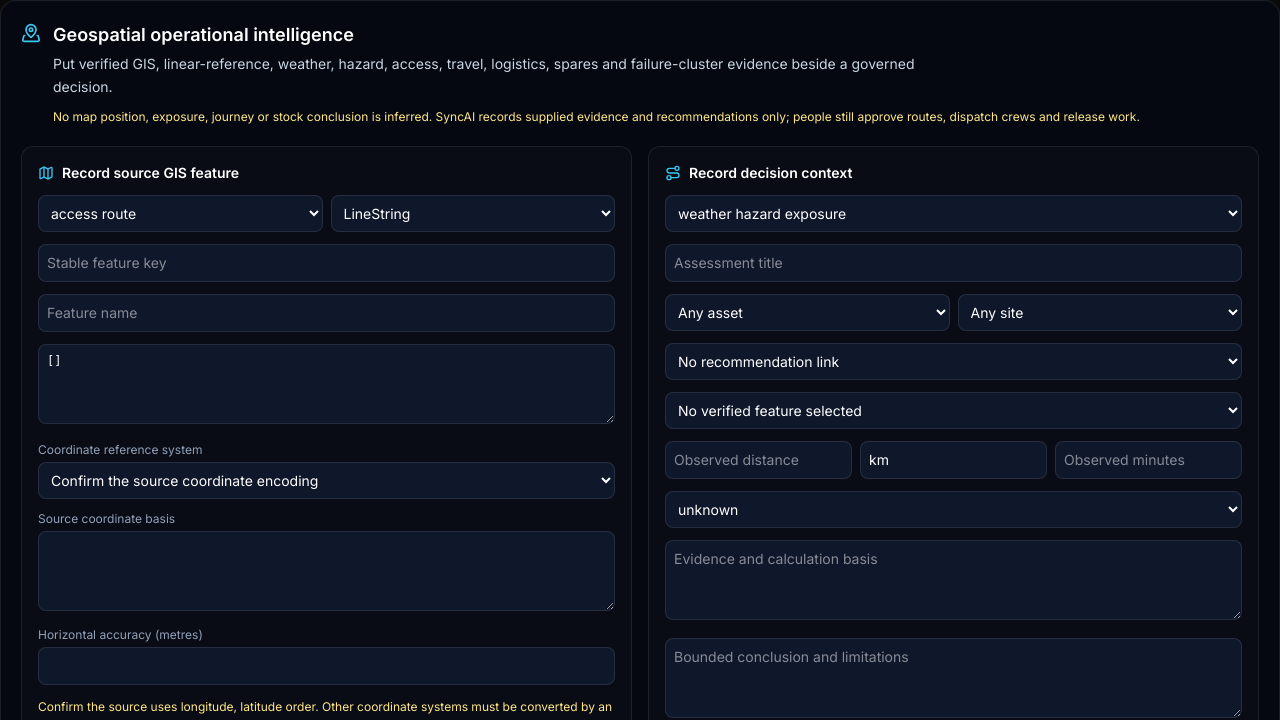
Test: SC-02 explicit coordinate authoring › does not default a coordinate system or invent accuracy
This screenshot has width=1280, height=720.
Type "survey-1" into the field with placeholder "Stable feature key" at (326, 263), box [38,244,615,282]
Type "Supplied alignment" into the field with placeholder "Feature name" at (326, 313), box [38,294,615,332]
Replace the text in the text box with placeholder "Source coordinates, e.g. [ [-113.5,53.5],[-113.4,53.6]]" with "[ [-113.5,53.5],[-113.4,53.6]]" at (326, 384), box [38,344,615,424]
(page scrolled)
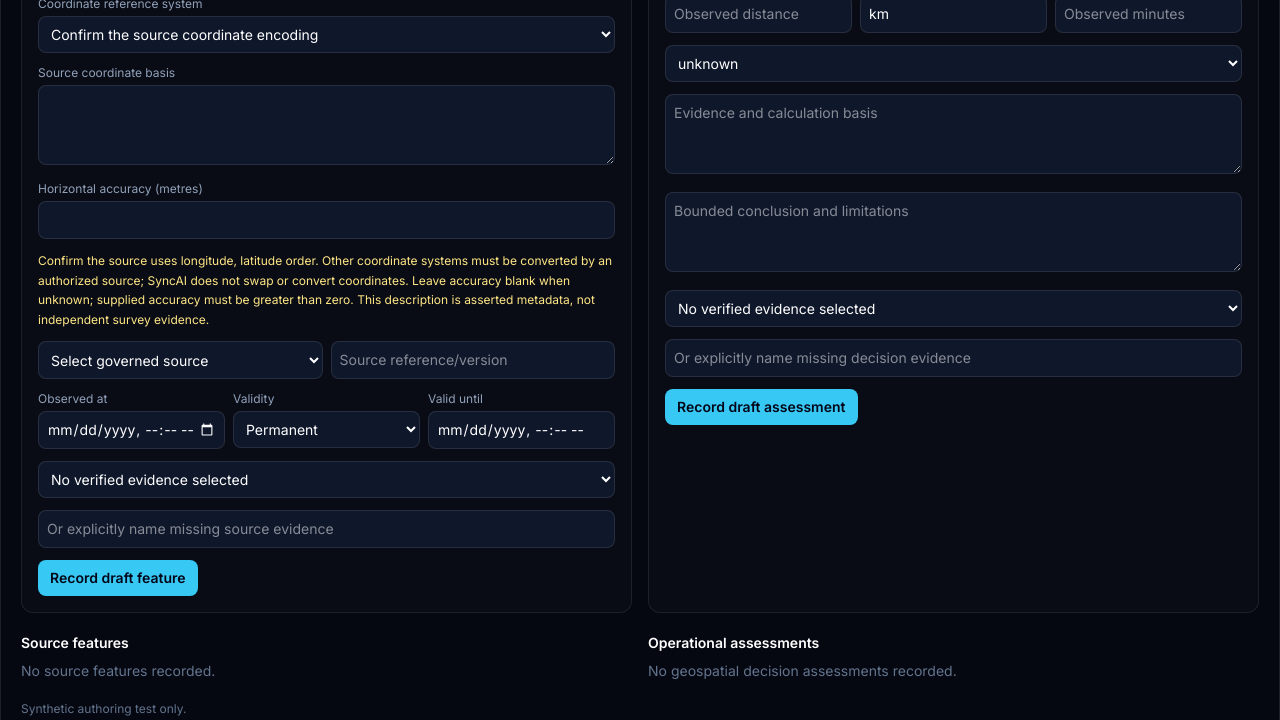
Select "Synthetic supplied geometry · simulated industrial · simulated" in the dropdown named "Governed Context source" at (180, 360), box [38,341,322,379]
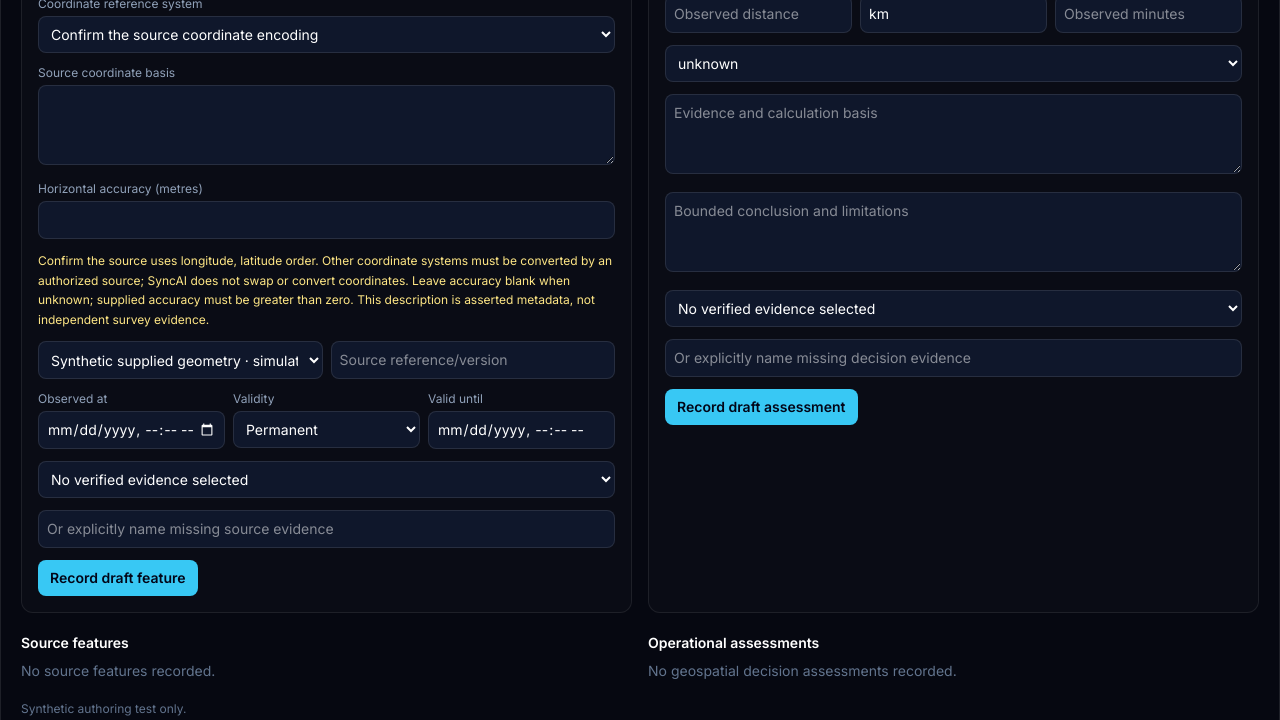
Type "synthetic-qualification-1" into the field with placeholder "Source reference/version" at (473, 360), box [330,341,615,379]
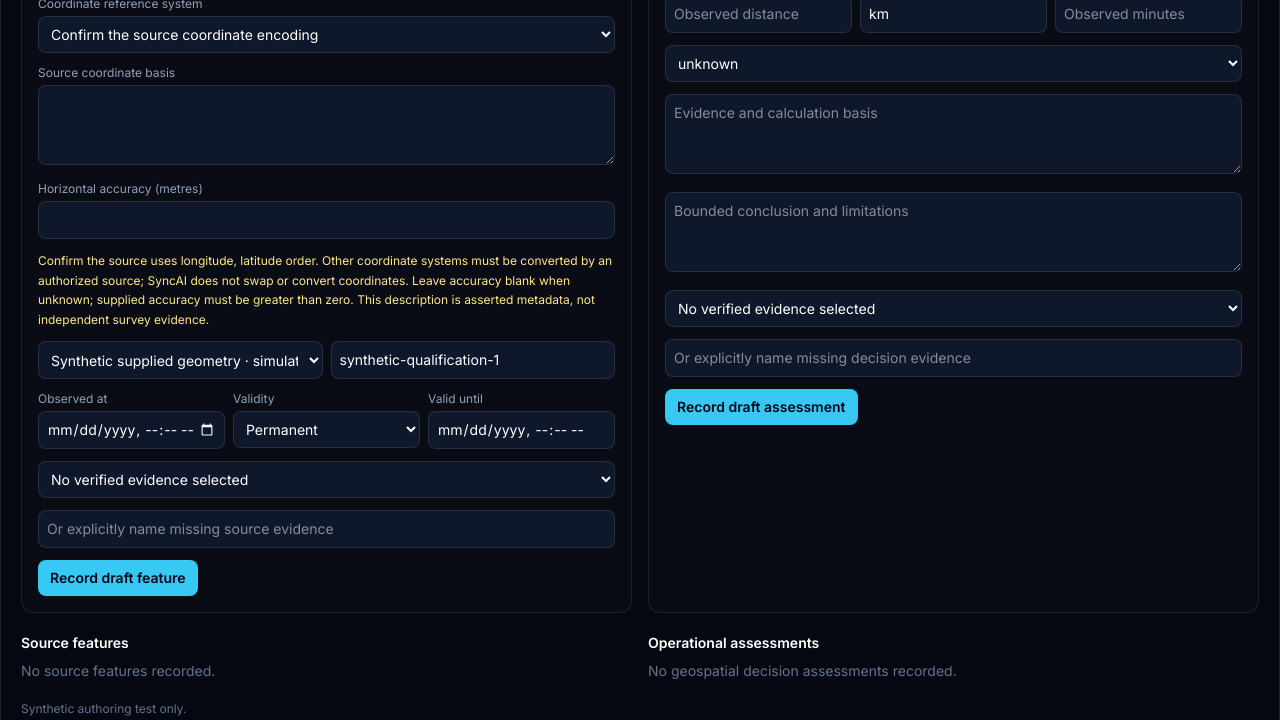
Type "2026-10-01T10:00" into the field labelled "Observed at" at (132, 430), box [38,411,225,449]
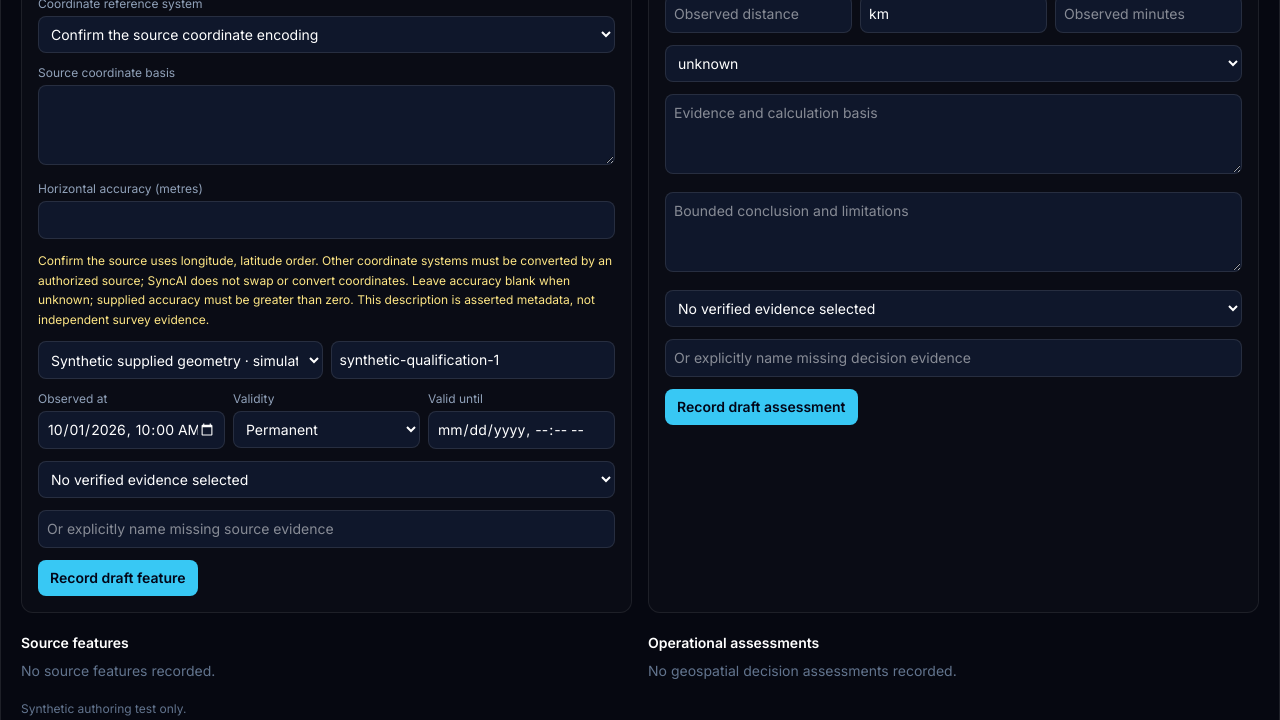
Type "Synthetic fixture: independent field survey unavailable." into the field with placeholder "Or explicitly name missing source evidence" at (326, 529), box [38,510,615,548]
(page scrolled)
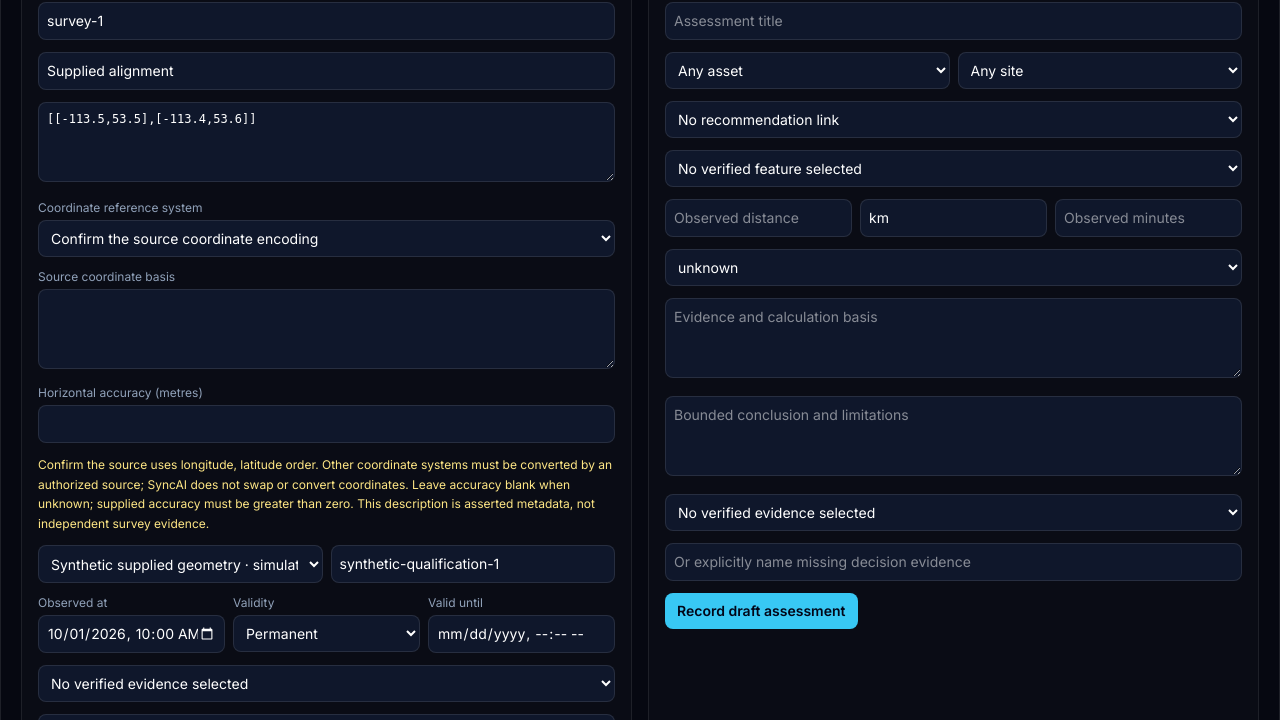
Expected: the dropdown labelled "Coordinate reference system" shows "Confirm the source coordinate encoding", [38,220,615,257]
Expected: the text box labelled "Source coordinate basis" is empty, [38,289,615,369]
Submit the form named "Record draft feature"
(page scrolled)
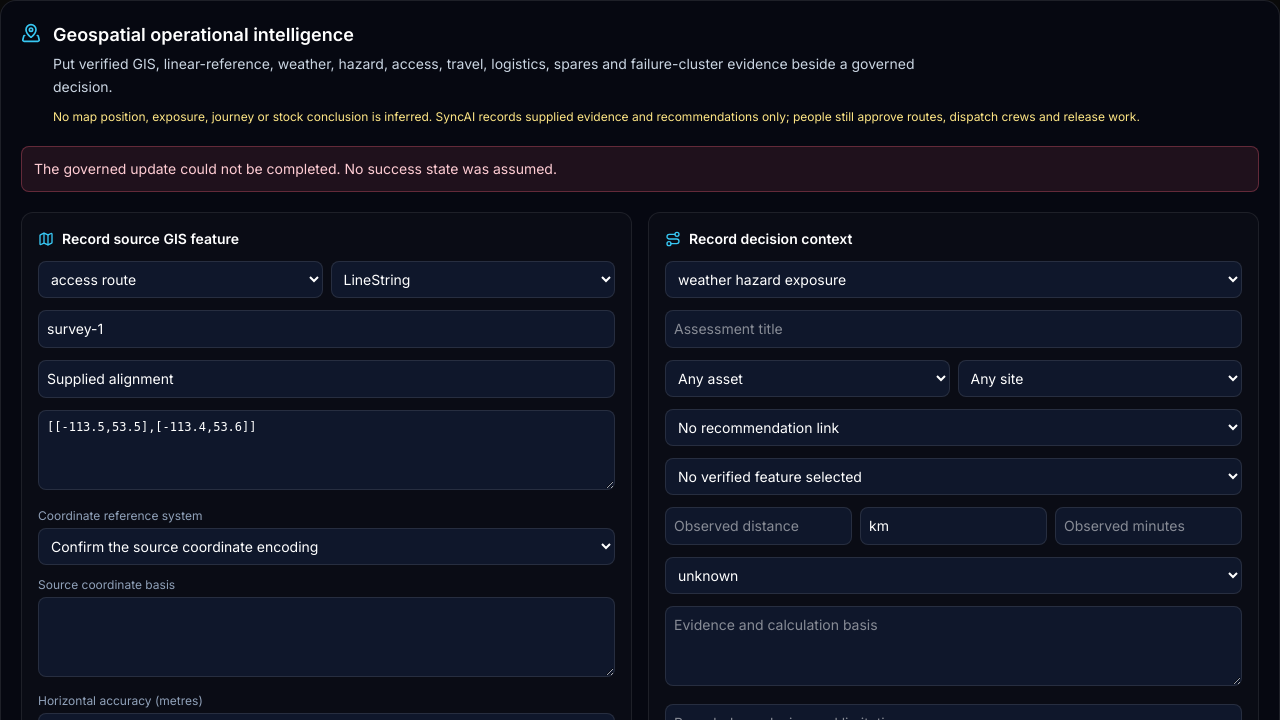
Now the message "The governed update could not be completed. No success state was assumed." is shown, box [21,146,1259,192]
